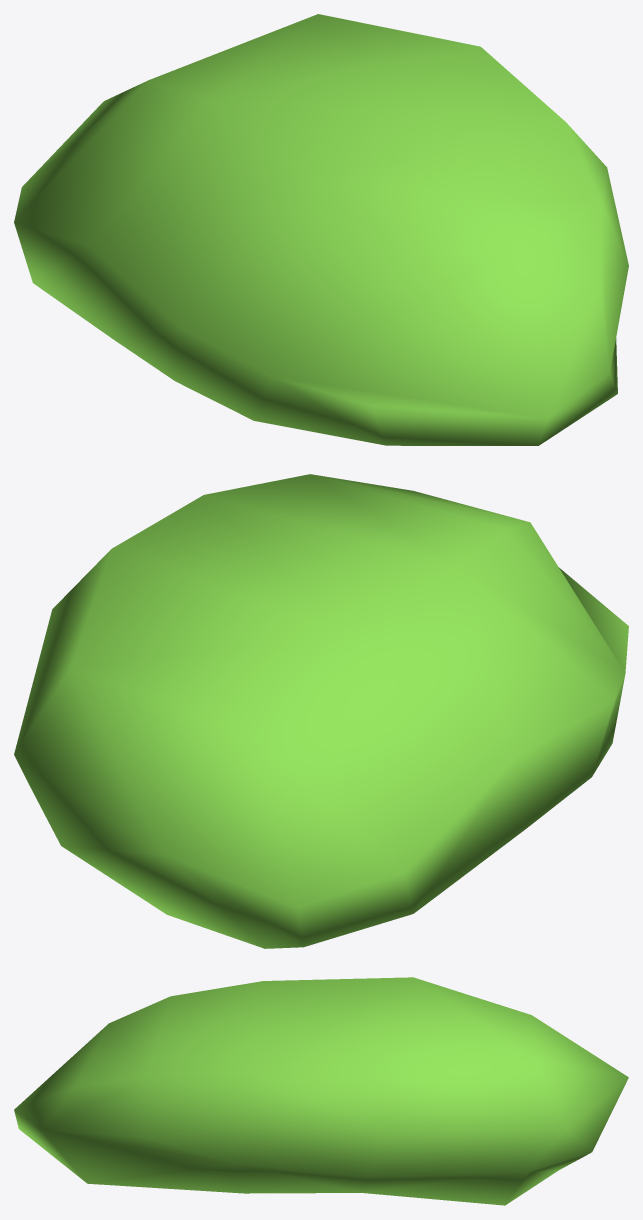
File: rock_08.FBX
3 views of the same model, one above another, from view 1: azimuth 30°, elevation 25°; view 2: azimuth 150°, elevation 25°; view 3: azimuth 270°, elevation 25° (orthographic). The views are drawn at different scales.
Parts seen in each view (by area): view 1: rock_08; view 2: rock_08; view 3: rock_08.
Boxes of the visible parts, box(x1,y1,x2,y2) form: rock_08: box(14, 14, 628, 445); rock_08: box(14, 474, 628, 948); rock_08: box(14, 977, 628, 1205).
Bounding box in the file's own units: 61.79 × 32.33 × 98.65.
